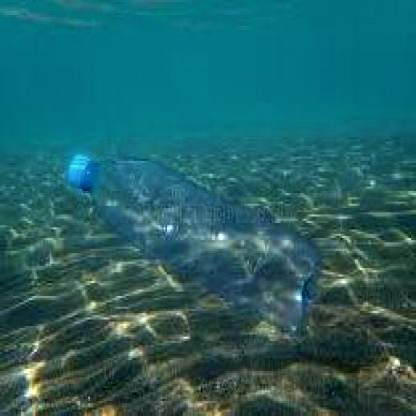pbottle: (59, 146, 323, 332)
